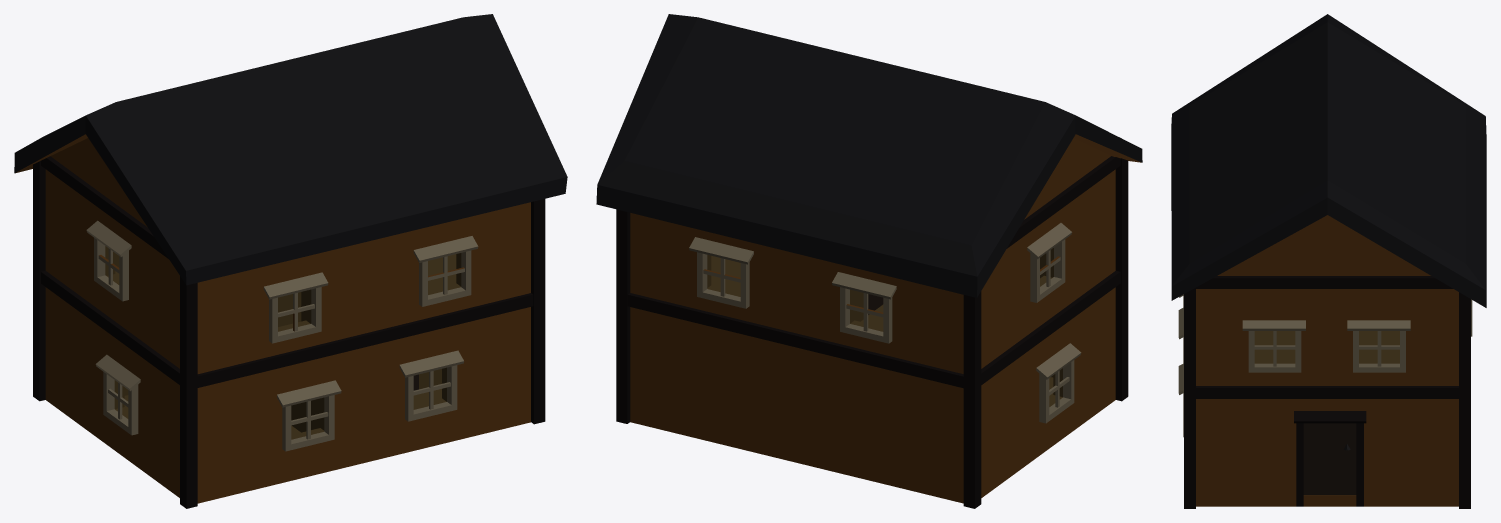
File: Village_Apartment_Small_4.fbx
3 renders of one model, left to right at view 1: azimuth 30°, elevation 25°; view 2: azimuth 150°, elevation 25°; view 3: azimuth 270°, elevation 25°, orthographic. The views are drawn at different scales.
Visible parts, largest first — view 1: Village_Apartment_Small_4; view 2: Village_Apartment_Small_4; view 3: Village_Apartment_Small_4.
Part boxes in pixels (x1,y1,x2,y2): Village_Apartment_Small_4: (14, 14, 567, 508); Village_Apartment_Small_4: (596, 14, 1142, 508); Village_Apartment_Small_4: (1171, 14, 1486, 508).
Size of the model in its own units: 1215 by 997 by 873.
